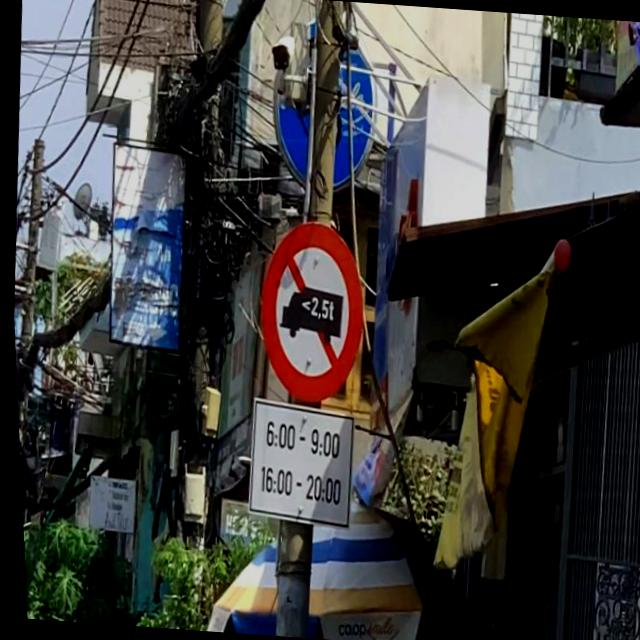Cam xe tai tren 2_5: (243, 213, 373, 410)
